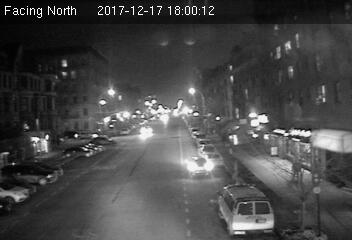car: (184, 154, 214, 177)
police: (217, 182, 274, 234)
